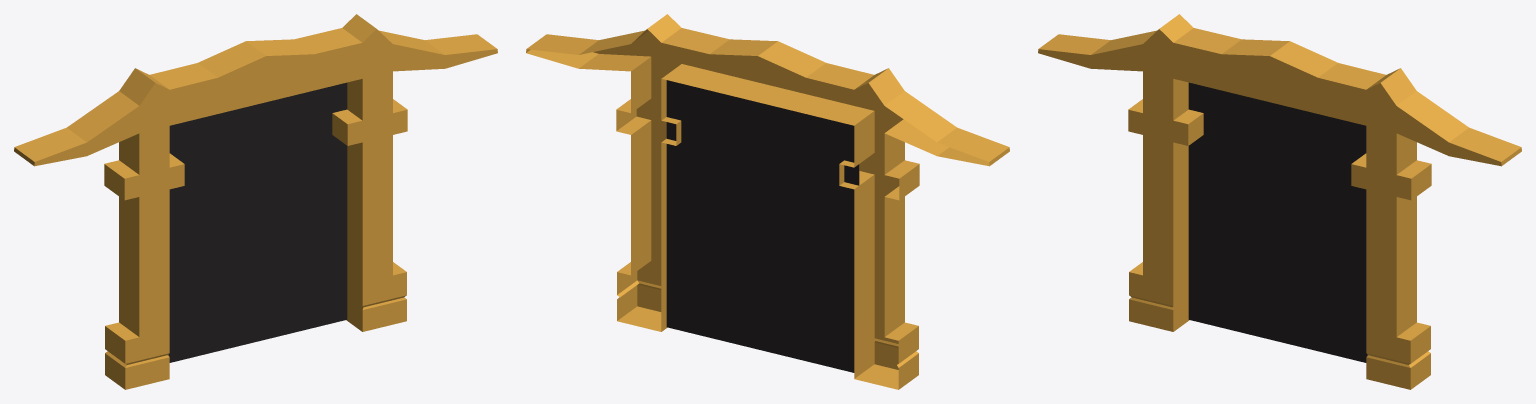
File: door_2.fbx
3 renders of one model, left to right at view 1: azimuth 30°, elevation 25°; view 2: azimuth 150°, elevation 25°; view 3: azimuth 330°, elevation 25°, orthographic.
Parts seen in each view (by area): view 1: door_2; view 2: door_2; view 3: door_2.
Boxes of the visible parts, x1,y1,x2,y2 form: door_2: (14, 14, 497, 389); door_2: (526, 14, 1009, 389); door_2: (1038, 14, 1521, 389).
Size of the model in its own units: 450 by 278 by 34.16.
